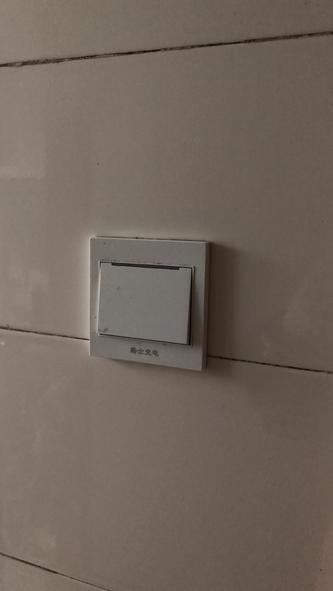switch: (91, 251, 197, 353)
